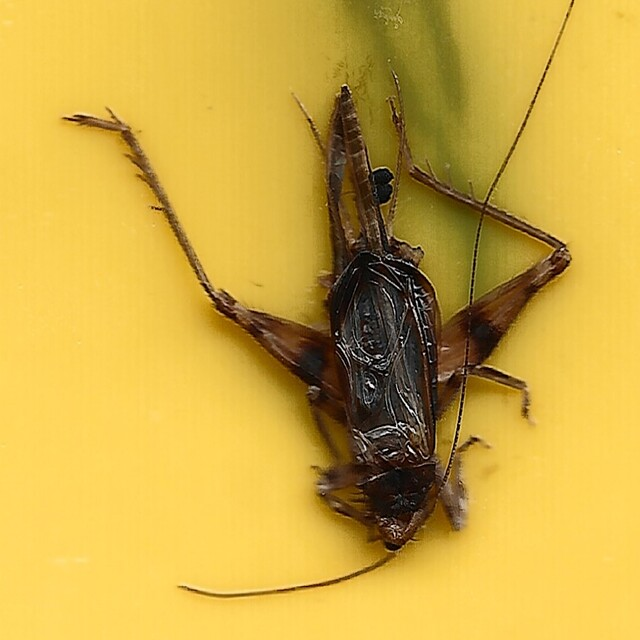Orthoptera: (65, 80, 575, 560)
